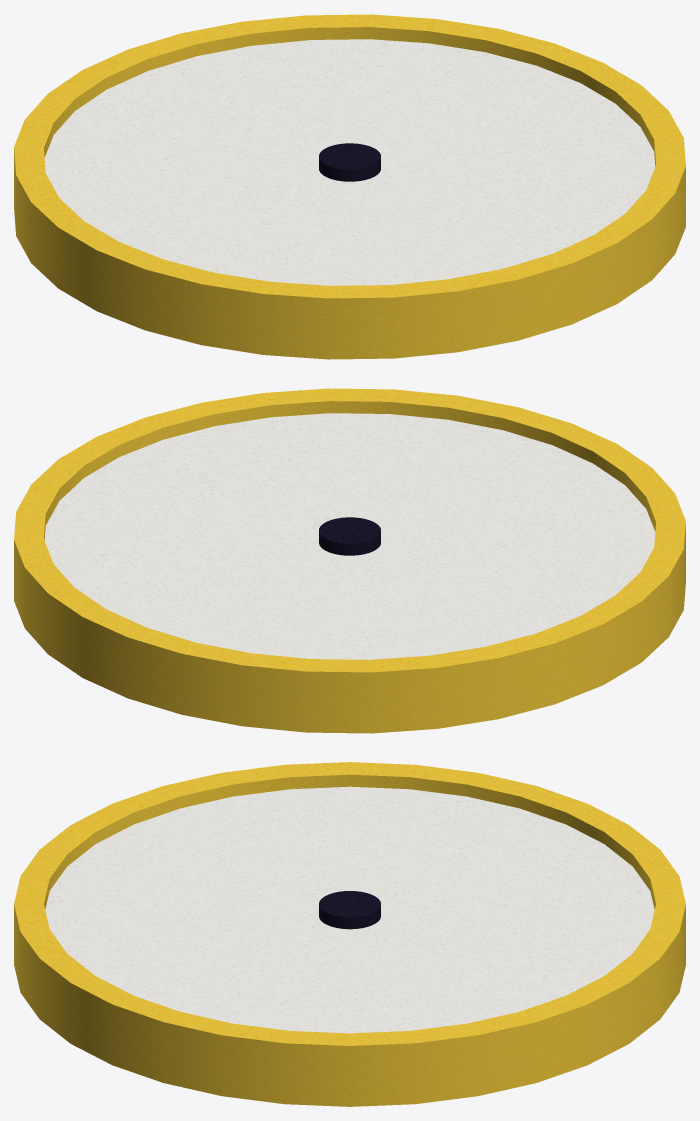
File: compassBody.fbx
3 views of the same model, one above another, from view 1: azimuth 30°, elevation 25°; view 2: azimuth 150°, elevation 25°; view 3: azimuth 270°, elevation 25° (orthographic).
Visible parts, largest first — view 1: Body; view 2: Body; view 3: Body.
Part boxes in pixels (x1=…): Body: x1=14, y1=14, x2=685, y2=359; Body: x1=14, y1=388, x2=685, y2=733; Body: x1=14, y1=762, x2=685, y2=1106.
Size of the model in its own units: 200 by 20 by 200.
